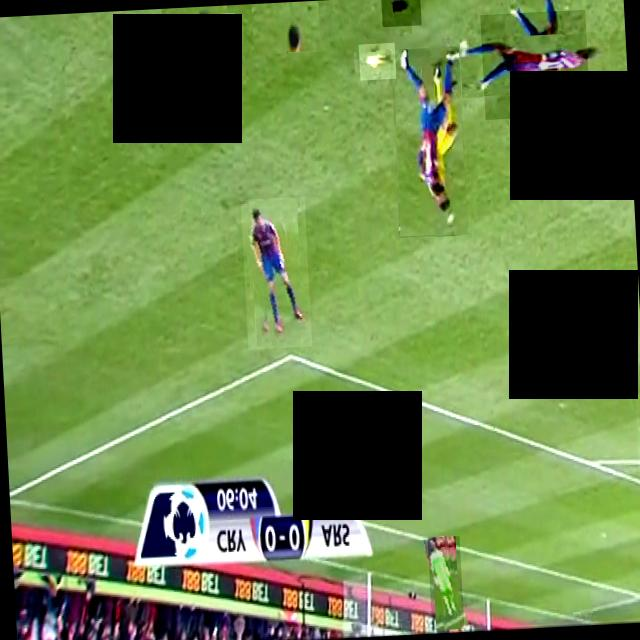ball: (358, 42, 396, 80)
goalkeeper: (426, 535, 464, 630)
soccer-player: (389, 45, 468, 236), (480, 9, 590, 119), (240, 196, 312, 349), (154, 12, 238, 96), (250, 0, 320, 54), (380, 0, 421, 26), (634, 393, 640, 517)
